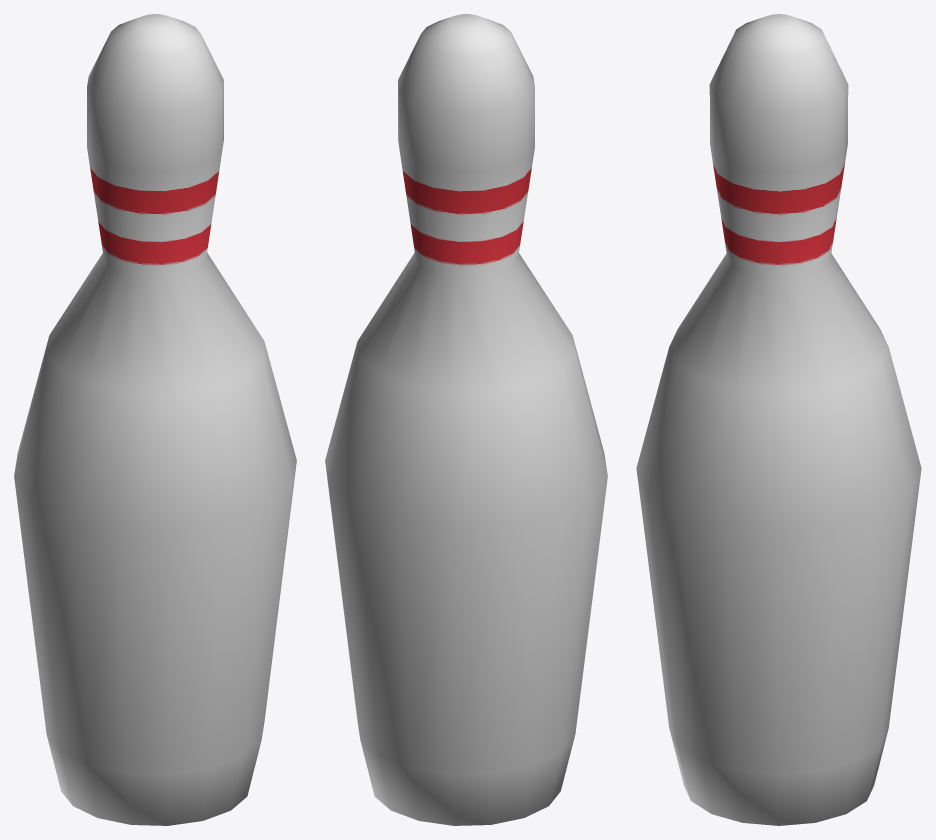
Rendered from Pin.fbx.
3 renders of one model, left to right at view 1: azimuth 30°, elevation 25°; view 2: azimuth 150°, elevation 25°; view 3: azimuth 270°, elevation 25°, orthographic.
Parts seen in each view (by area): view 1: Cylinder; view 2: Cylinder; view 3: Cylinder.
Part boxes in pixels (x1,y1,x2,y2): Cylinder: (14, 14, 296, 825); Cylinder: (325, 14, 607, 825); Cylinder: (636, 14, 921, 825).
Bounding box in the file's own units: 260 × 260 × 768.
